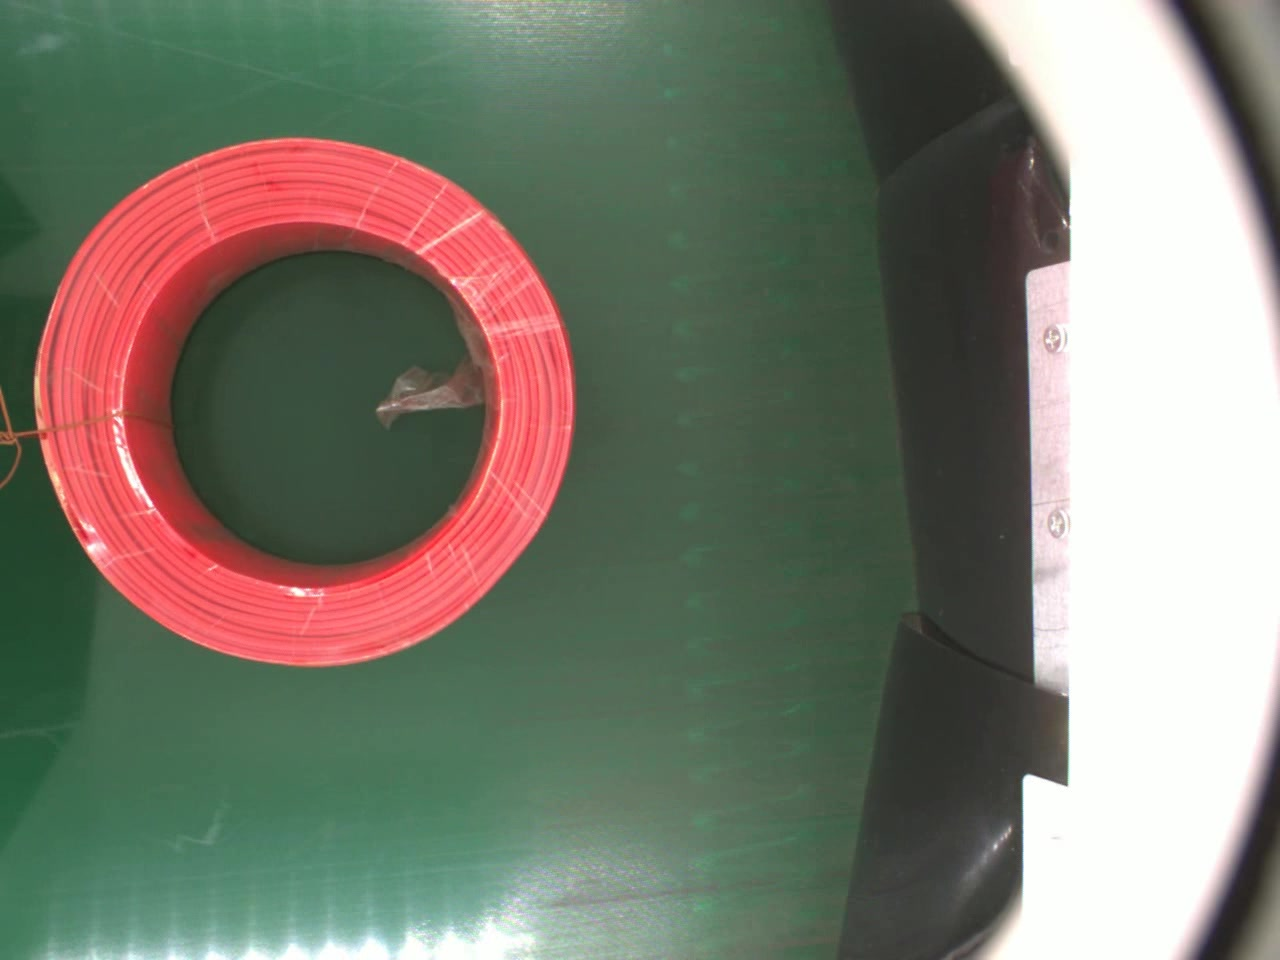red: (27, 133, 575, 674)
